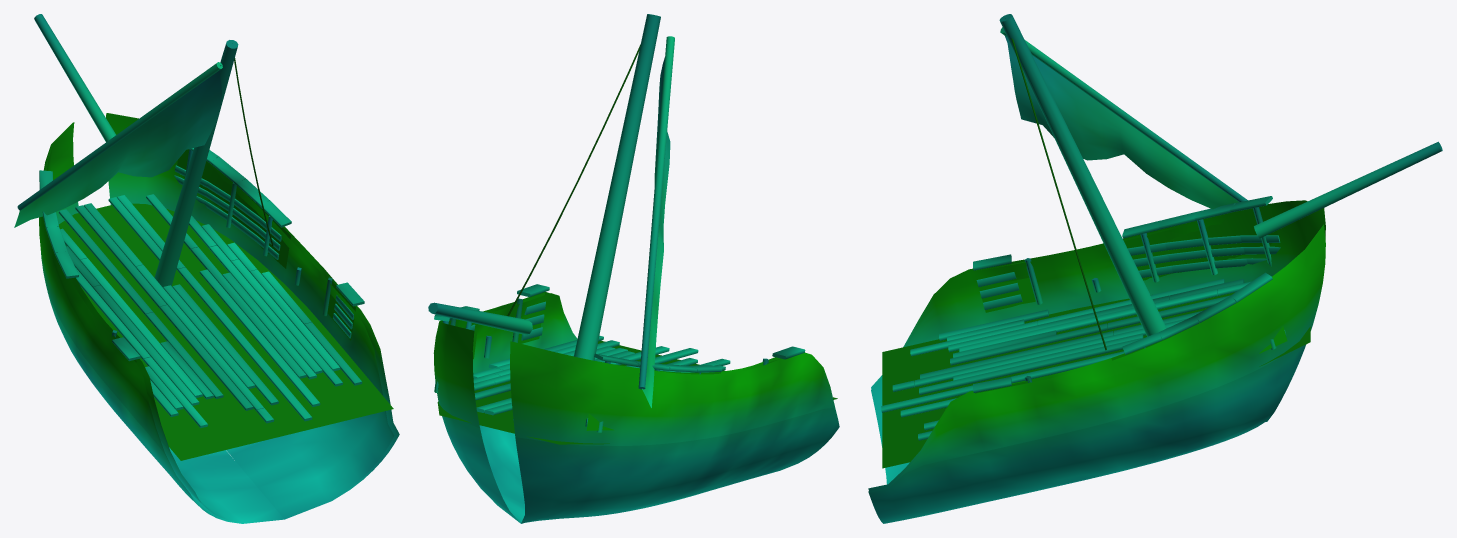
File: derelict_hulk_b.glb
3 renders of one model, left to right at view 1: azimuth 30°, elevation 25°; view 2: azimuth 150°, elevation 25°; view 3: azimuth 270°, elevation 25°, orthographic. The views are drawn at different scales.
Parts seen in each view (by area): view 1: derelict_hulk_b; view 2: derelict_hulk_b; view 3: derelict_hulk_b.
Part boxes in pixels (x1=…): derelict_hulk_b: x1=14, y1=14, x2=399, y2=523; derelict_hulk_b: x1=428, y1=14, x2=839, y2=523; derelict_hulk_b: x1=868, y1=14, x2=1442, y2=523.
Size of what is drawn, in the model's own units: 6.08 by 10.83 by 11.46.
